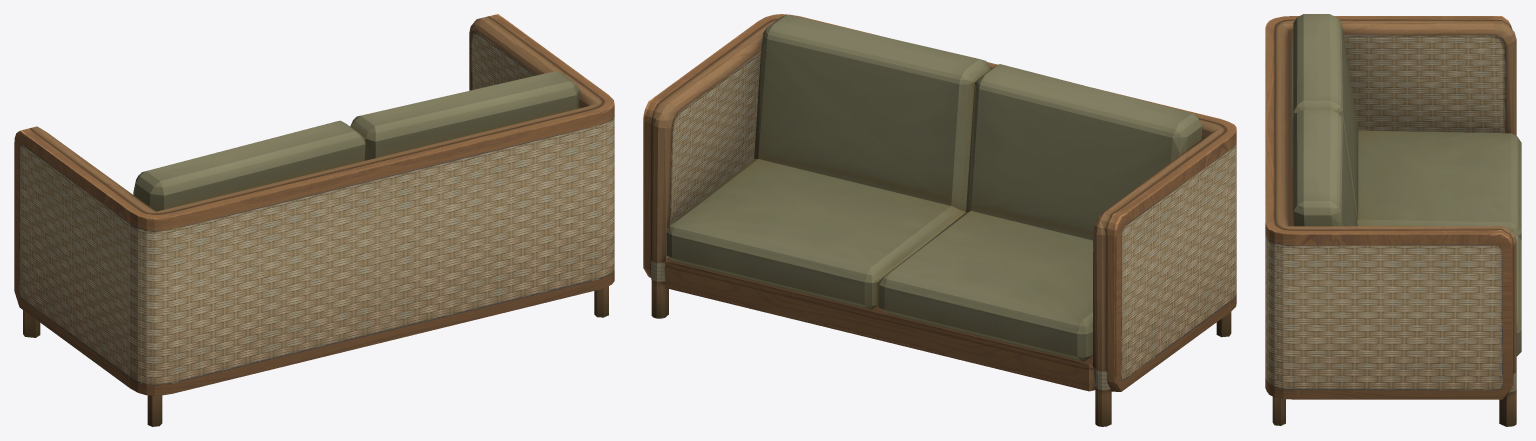
The model's file is P_OutdoorSofa_003_S1_M05.obj.
3 renders of one model, left to right at view 1: azimuth 30°, elevation 25°; view 2: azimuth 150°, elevation 25°; view 3: azimuth 270°, elevation 25°, orthographic. The views are drawn at different scales.
Bounding box in the file's own units: 1.98 × 0.9151 × 0.9843.
1 material, 1 textured.
